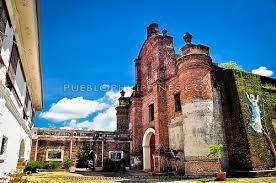Sta. Maria Church: (114, 18, 226, 176)
Unfinished Paint: (168, 99, 224, 153)
